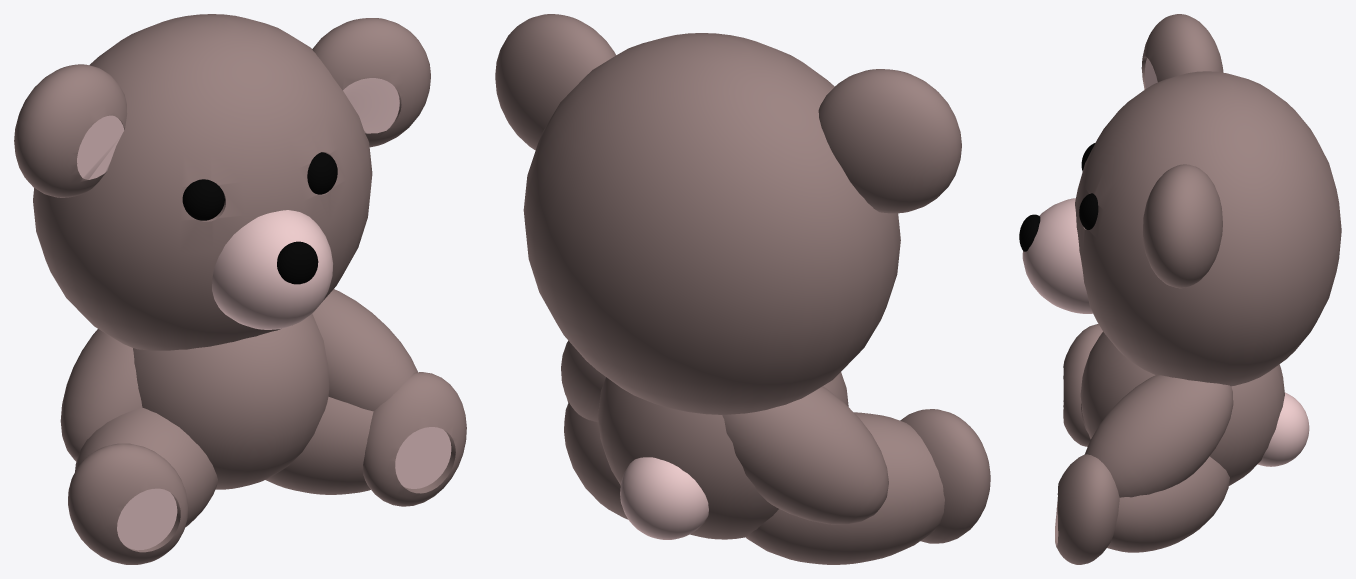
File: teddybear.fbx
The picture shows the model from 3 angles, left to right: view 1: azimuth 30°, elevation 25°; view 2: azimuth 150°, elevation 25°; view 3: azimuth 270°, elevation 25°; orthographic projection. The views are drawn at different scales.
Parts seen in each view (by area): view 1: Sphere.014; view 2: Sphere.014; view 3: Sphere.014.
Part boxes in pixels (left/top/right/bottom): Sphere.014: left=14, top=14, right=466, bottom=564; Sphere.014: left=495, top=14, right=990, bottom=564; Sphere.014: left=1019, top=14, right=1341, bottom=564.
Size of the model in its own units: 160 by 173 by 120.
